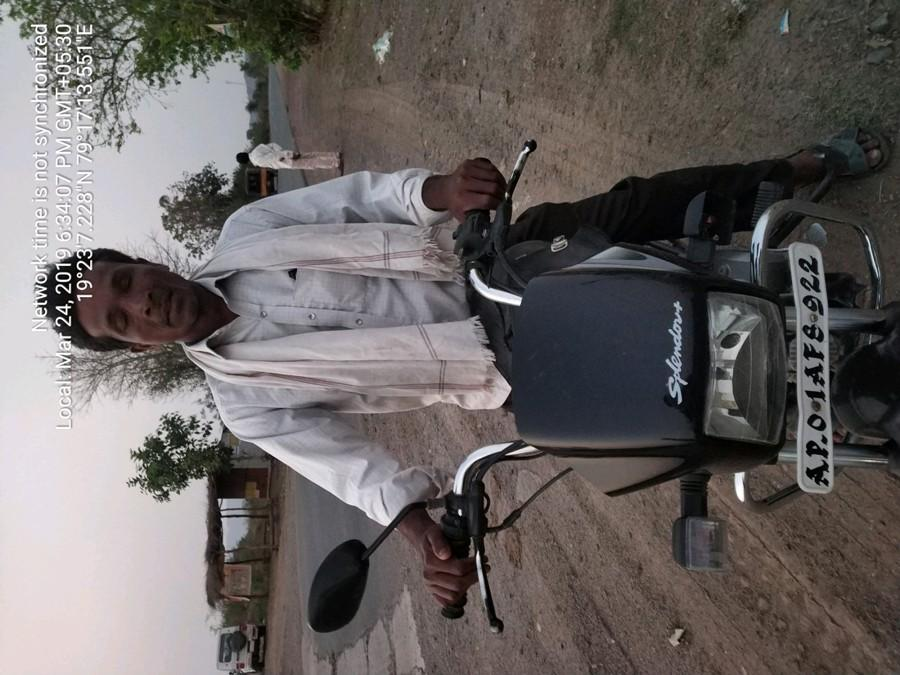plate: (775, 231, 843, 504)
